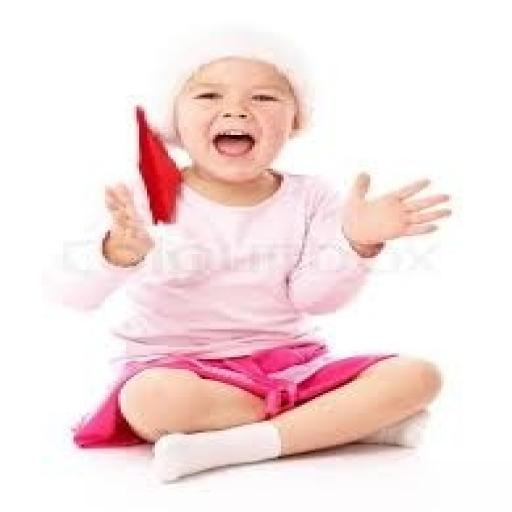clapping: (55, 38, 454, 484)
